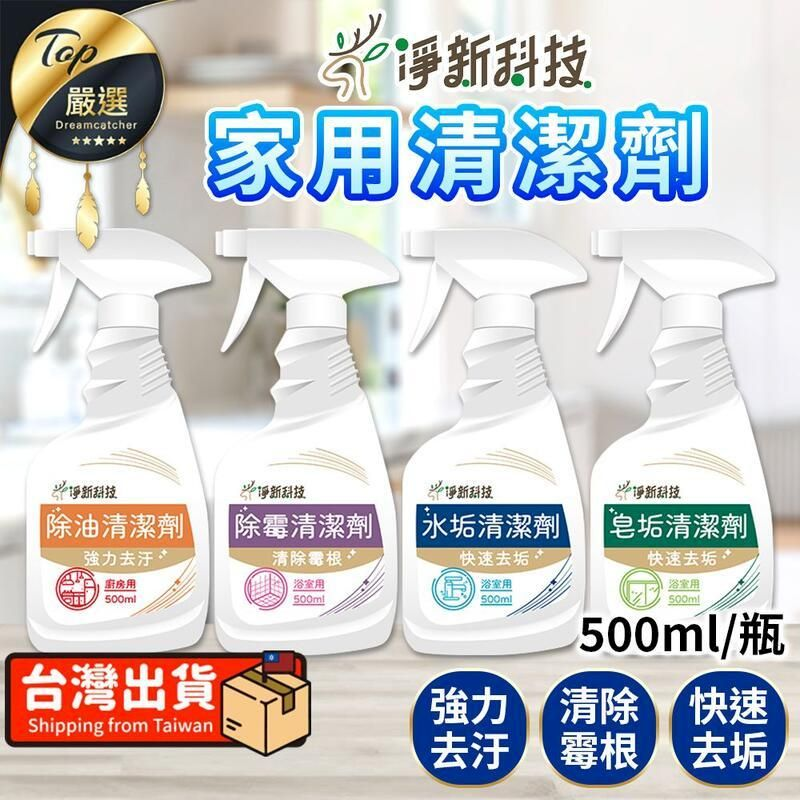cleaner: (560, 215, 791, 660), (1, 226, 230, 658), (371, 218, 591, 662), (201, 215, 416, 658)
